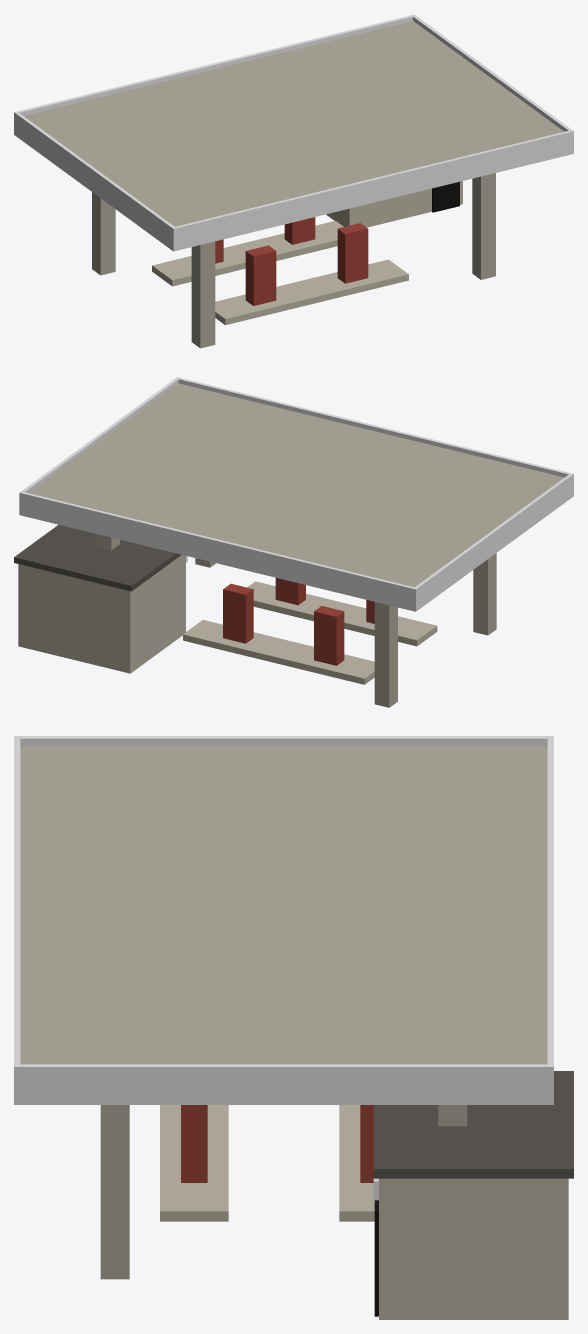
3 renders of one model, top to bottom at view 1: azimuth 30°, elevation 25°; view 2: azimuth 150°, elevation 25°; view 3: azimuth 270°, elevation 25°, orthographic. The views are drawn at different scales.
Parts seen in each view (by area): view 1: site_gas_station_restored; view 2: site_gas_station_restored; view 3: site_gas_station_restored.
Part boxes in pixels (left/top/right/bottom): site_gas_station_restored: left=14, top=14, right=573, bottom=348; site_gas_station_restored: left=14, top=377, right=573, bottom=707; site_gas_station_restored: left=14, top=736, right=573, bottom=1319.
Bounding box in the file's own units: 14.84 × 5.35 × 10.62.
